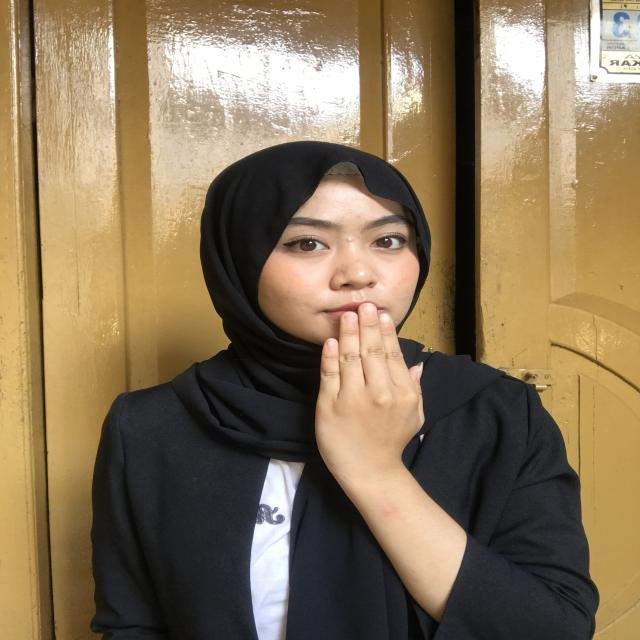ganteng: (312, 300, 433, 483)
